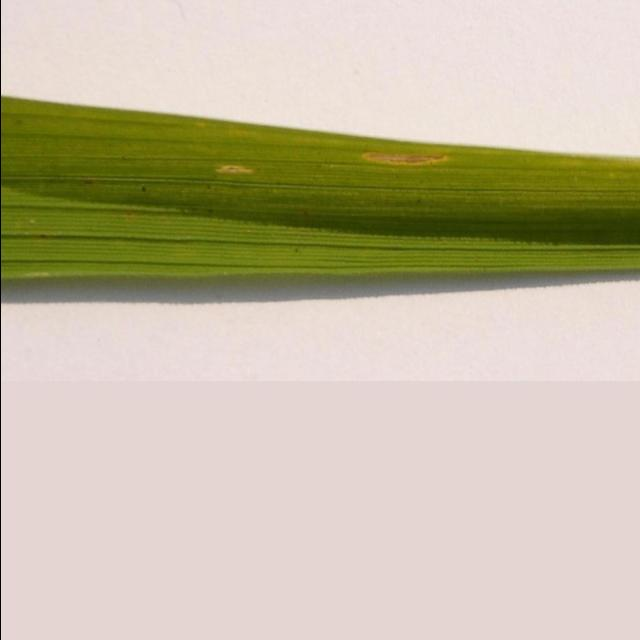Bacterial leaf blight: (362, 144, 453, 177), (196, 154, 254, 184)
